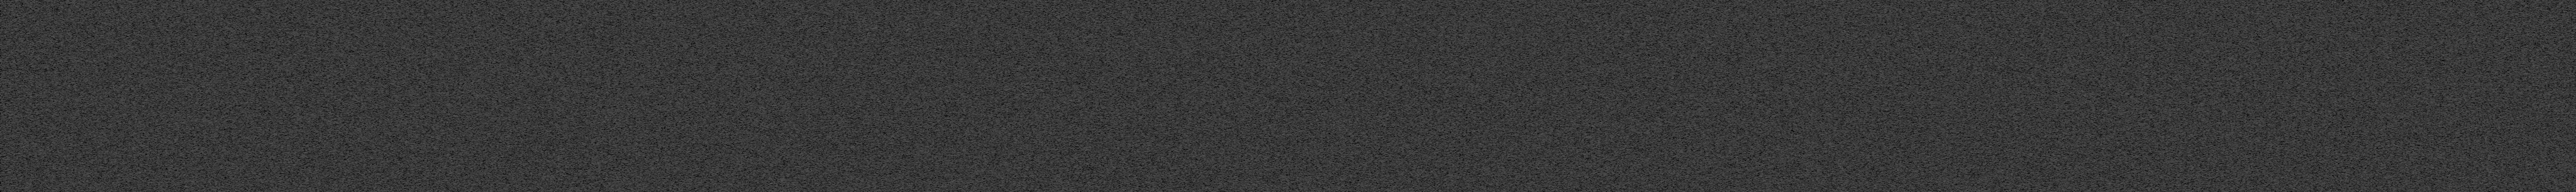wv_cw: (2021, 0, 2032, 192), (2175, 0, 2187, 192), (2407, 0, 2417, 192)
wv_lsb: (1548, 3, 1551, 192), (2418, 46, 2422, 192)
wv_usb: (1825, 3, 1830, 192), (1582, 3, 1585, 192)
wv_wbfm: (1690, 0, 1699, 192), (1700, 0, 1707, 192), (1681, 0, 1687, 192), (1672, 0, 1677, 192), (1712, 0, 1717, 192)
